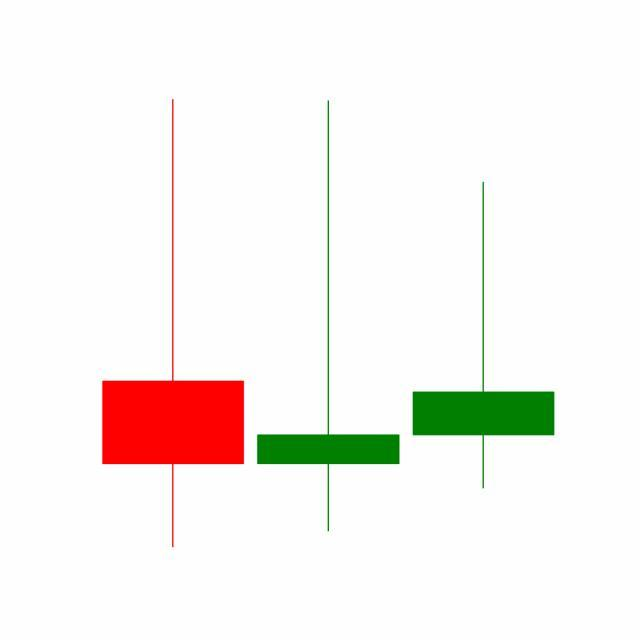Spinning Top: (406, 179, 562, 493)
